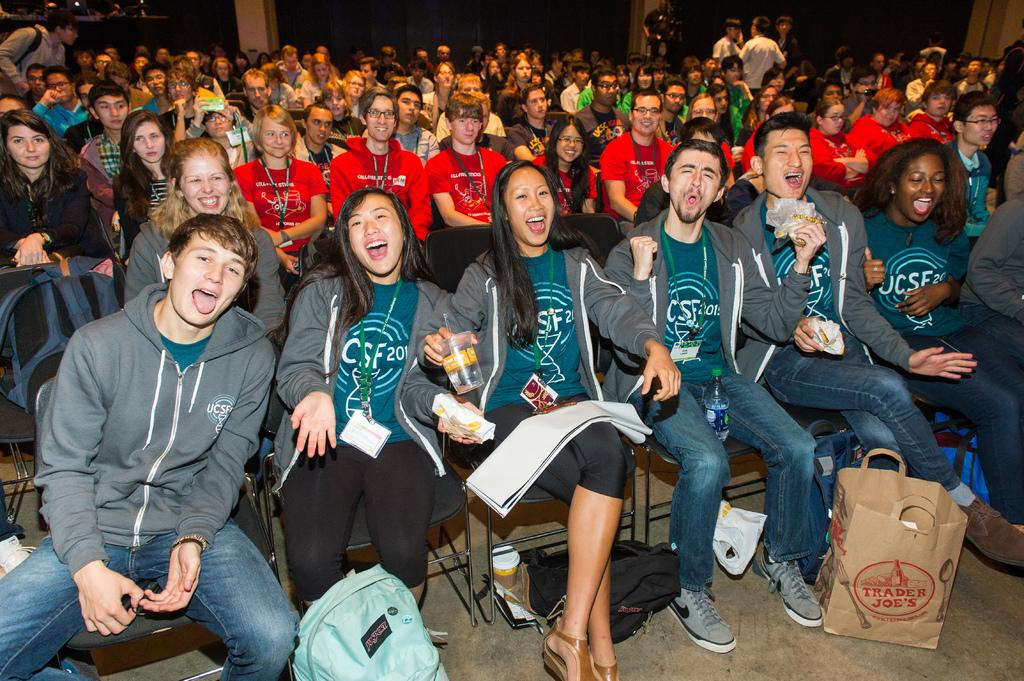Luggage-and-bags: (285, 563, 453, 680), (0, 253, 123, 412), (531, 537, 692, 645), (808, 422, 873, 582)
